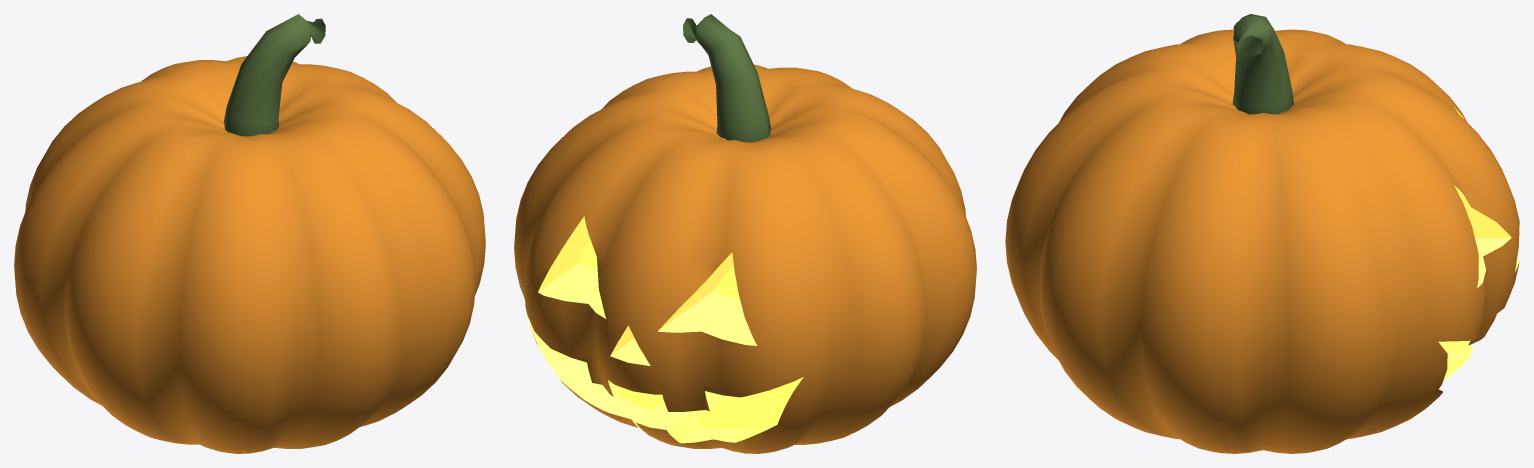
The model's file is pumpkin.glb.
3 renders of one model, left to right at view 1: azimuth 30°, elevation 25°; view 2: azimuth 150°, elevation 25°; view 3: azimuth 270°, elevation 25°, orthographic. The views are drawn at different scales.
Parts seen in each view (by area): view 1: Pumpkin; view 2: Pumpkin; view 3: Pumpkin.
Part boxes in pixels (x1,y1,x2,y2): Pumpkin: (14, 14, 485, 453); Pumpkin: (514, 14, 976, 453); Pumpkin: (1005, 14, 1519, 453).
Size of the model in its own units: 1.58 by 1.44 by 1.63.
